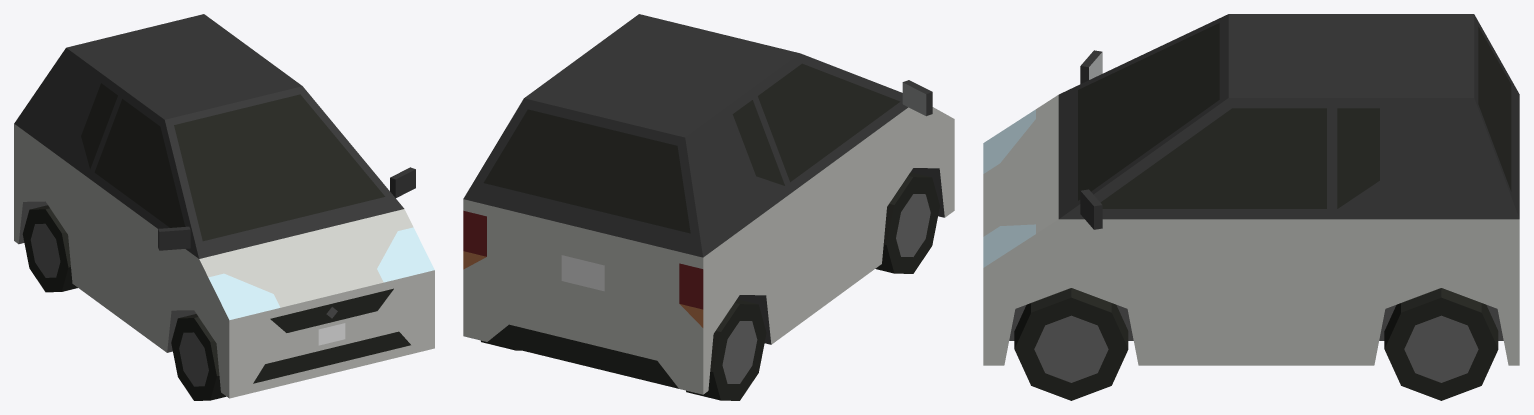
Rendered from Veh_Microcar_White.glb.
3 renders of one model, left to right at view 1: azimuth 30°, elevation 25°; view 2: azimuth 150°, elevation 25°; view 3: azimuth 270°, elevation 25°, orthographic. The views are drawn at different scales.
Parts seen in each view (by area): view 1: Microcar_White, Wheel_FR, Wheel_RR; view 2: Microcar_White, Wheel_RR, Wheel_FR; view 3: Microcar_White, Wheel_FL, Wheel_RL.
Part boxes in pixels (<box>): Microcar_White: <box>14,14,434,398</box>; Wheel_FR: <box>171,314,226,400</box>; Wheel_RR: <box>22,205,77,292</box>; Microcar_White: <box>463,14,954,394</box>; Wheel_RR: <box>686,299,766,400</box>; Wheel_FR: <box>875,172,939,273</box>; Microcar_White: <box>983,14,1519,365</box>; Wheel_FL: <box>1014,288,1128,400</box>; Wheel_RL: <box>1384,288,1498,400</box>.
Bounding box in the file's own units: 0.9194 × 0.7766 × 1.34.
Materials: 1 (1 with a texture image).
